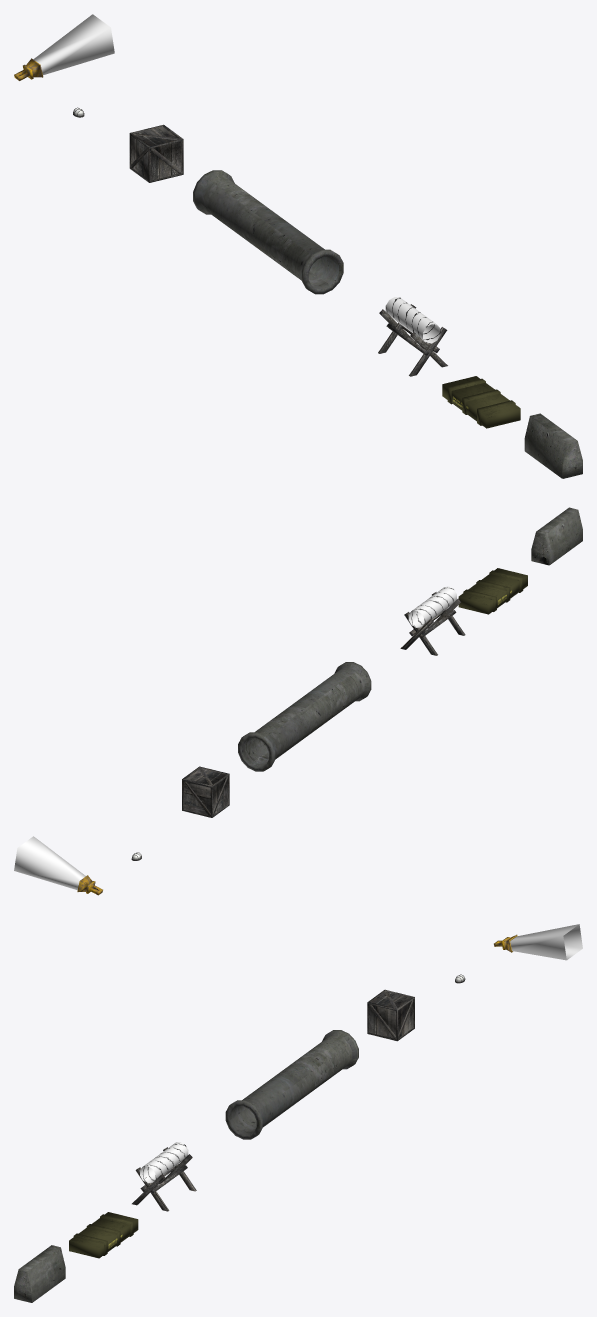
Rendered from Props_1.fbx.
The picture shows the model from 3 angles, top to bottom: view 1: azimuth 30°, elevation 25°; view 2: azimuth 150°, elevation 25°; view 3: azimuth 330°, elevation 25°; orthographic projection. The views are drawn at different scales.
Visible parts, largest first — view 1: Cylinder, Cube_003, Cube_005, Cube_002, Cube_001, Cube; view 2: Cylinder, Cube_003, Cube_005, Cube_001, Cube_002, Cube; view 3: Cylinder, Cube_003, Cube_002, Cube_001, Cube, Cube_005.
Part boxes in pixels (x1=…): Cylinder: x1=193, y1=170, x2=343, y2=294; Cube_003: x1=129, y1=124, x2=183, y2=182; Cube_005: x1=33, y1=14, x2=114, y2=75; Cube_002: x1=442, y1=376, x2=520, y2=428; Cube_001: x1=524, y1=413, x2=582, y2=478; Cube: x1=378, y1=297, x2=447, y2=376; Cylinder: x1=238, y1=662, x2=371, y2=771; Cube_003: x1=182, y1=766, x2=229, y2=817; Cube_005: x1=14, y1=836, x2=85, y2=890; Cube_001: x1=531, y1=507, x2=582, y2=565; Cube_002: x1=458, y1=568, x2=527, y2=614; Cube: x1=400, y1=586, x2=465, y2=655; Cylinder: x1=225, y1=1030, x2=358, y2=1139; Cube_003: x1=367, y1=989, x2=414, y2=1041; Cube_002: x1=69, y1=1212, x2=138, y2=1258; Cube_001: x1=14, y1=1245, x2=65, y2=1302; Cube: x1=132, y1=1142, x2=196, y2=1211; Cube_005: x1=510, y1=924, x2=582, y2=960.
Size of the model in its own units: 5.77 by 2.75 by 56.33.
